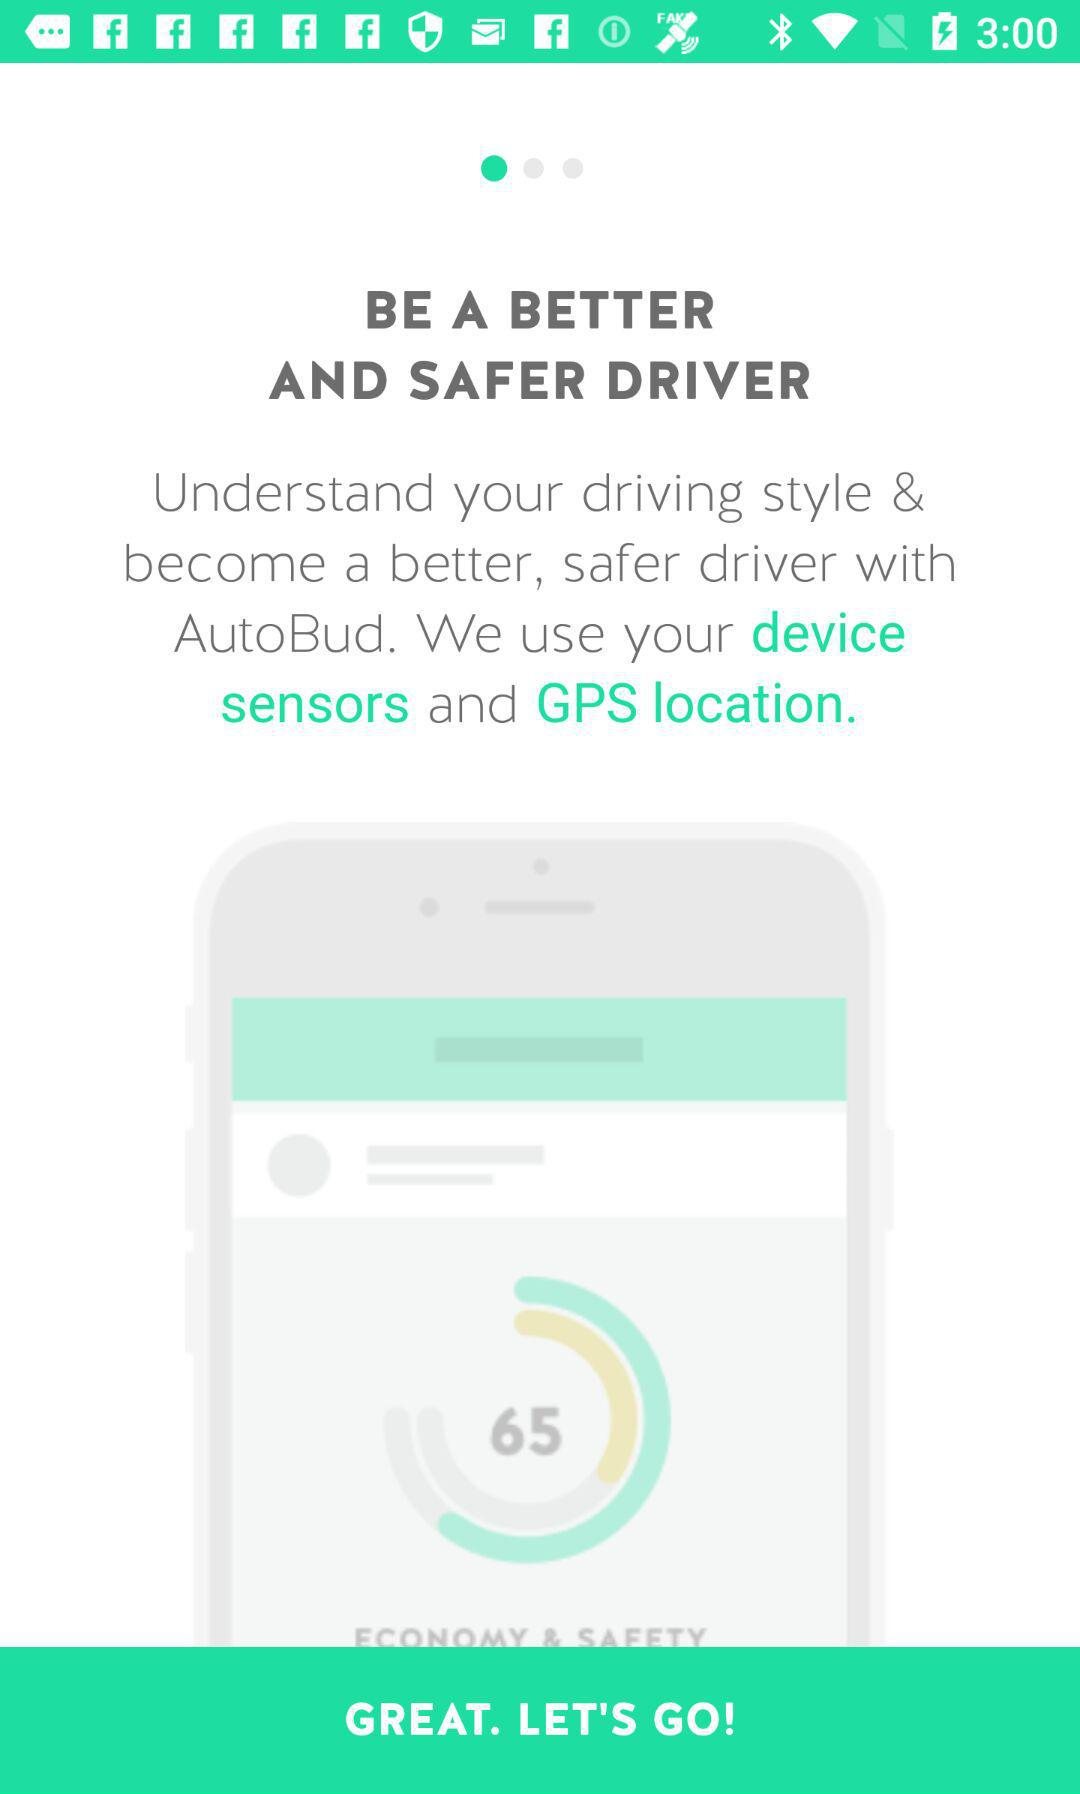Image: (183, 821, 894, 1647)
PageIndicator: (480, 155, 585, 185)
Text: (127, 472, 954, 724), (269, 291, 810, 401)
TextButton: (1, 1647, 1080, 1794)
UpperTaskBar: (1, 1, 1080, 64)
